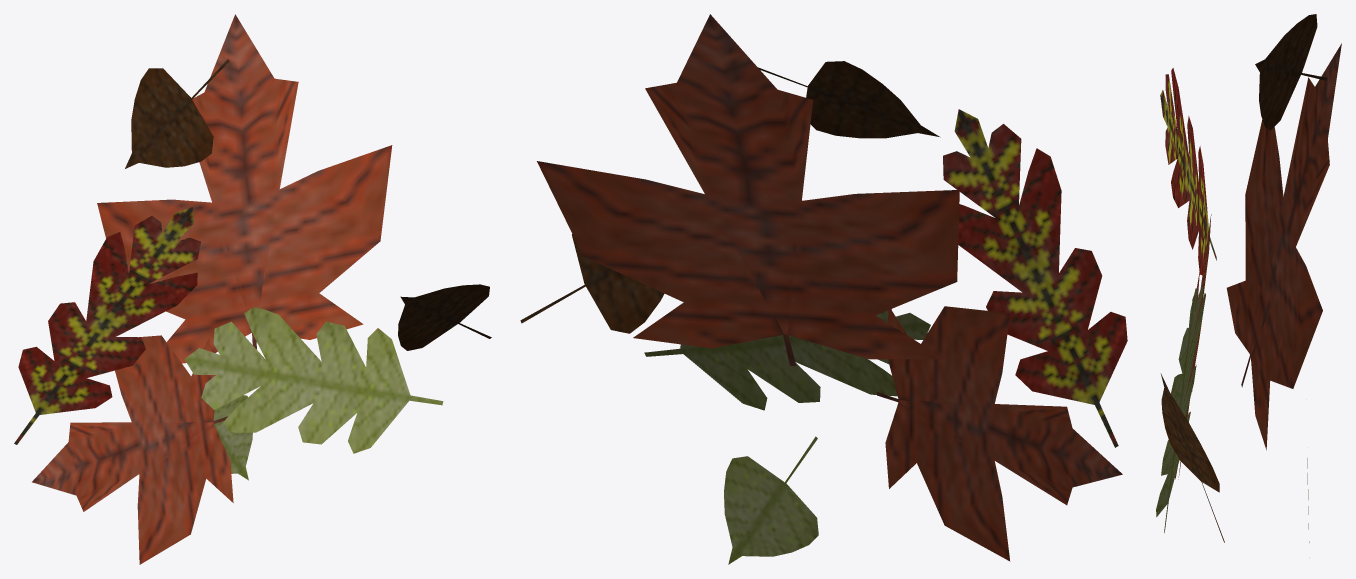
The model's file is leaves.glb.
3 renders of one model, left to right at view 1: azimuth 30°, elevation 25°; view 2: azimuth 150°, elevation 25°; view 3: azimuth 270°, elevation 25°, orthographic. The views are drawn at different scales.
Visible parts, largest first — view 1: maple leaf, maple leaf.001, oak leaf.001, oak leaf, poplar leaf, poplar leaf.001, poplar_leaf_2; view 2: maple leaf, maple leaf.001, oak leaf, oak leaf.001, poplar_leaf_2, poplar leaf, poplar leaf.001; view 3: maple leaf, oak leaf, poplar leaf, oak leaf.001, poplar leaf.001, maple leaf.001.
Boxes of the visible parts, x1=… form: maple leaf: x1=97, y1=14, x2=392, y2=363; maple leaf.001: x1=32, y1=335, x2=233, y2=564; oak leaf.001: x1=184, y1=306, x2=443, y2=453; oak leaf: x1=14, y1=207, x2=200, y2=444; poplar leaf: x1=125, y1=59, x2=229, y2=168; poplar leaf.001: x1=398, y1=284, x2=491, y2=350; poplar_leaf_2: x1=213, y1=395, x2=252, y2=480; maple leaf: x1=537, y1=14, x2=959, y2=365; maple leaf.001: x1=877, y1=306, x2=1122, y2=561; oak leaf: x1=943, y1=109, x2=1127, y2=447; oak leaf.001: x1=644, y1=309, x2=930, y2=410; poplar_leaf_2: x1=724, y1=436, x2=818, y2=564; poplar leaf: x1=758, y1=61, x2=940, y2=138; poplar leaf.001: x1=520, y1=234, x2=664, y2=333; maple leaf: x1=1226, y1=43, x2=1341, y2=450; oak leaf: x1=1160, y1=68, x2=1216, y2=275; poplar leaf: x1=1255, y1=14, x2=1327, y2=130; oak leaf.001: x1=1156, y1=284, x2=1205, y2=532; poplar leaf.001: x1=1160, y1=373, x2=1224, y2=542; maple leaf.001: x1=1175, y1=214, x2=1211, y2=479.
Size of the model in its own units: 0.2435 by 0.22 by 0.071.
1 material, 1 textured.
